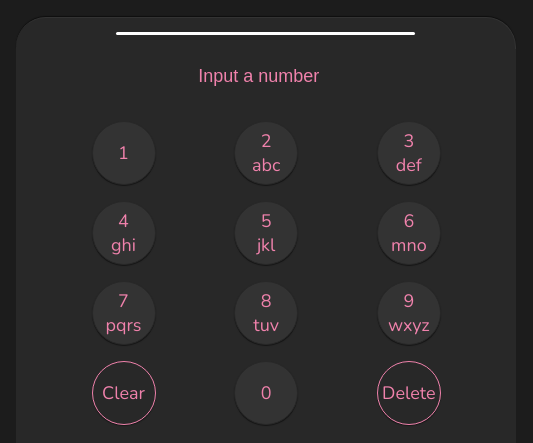
it: Deletes query value
Expected: the text "2" is shown, [261, 129, 272, 153]
Click the button with test id "button-2" at point(266, 153), box [234, 121, 298, 185]
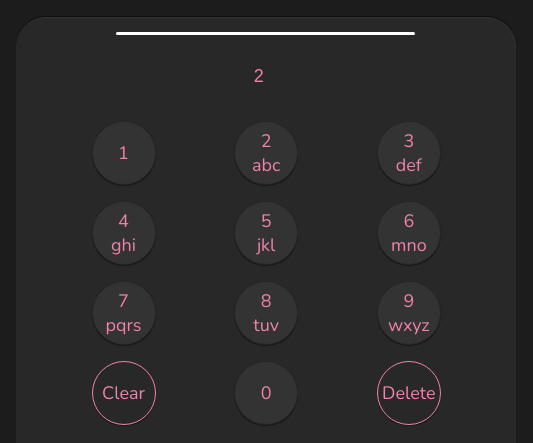
Expected: the text "Clear" is shown, [102, 381, 145, 405]
Expected: the number field with test id "text-input" holds "2", [16, 49, 516, 103]
Click the button with class "special" showing "Clear" at point(124, 393), box [92, 361, 156, 425]
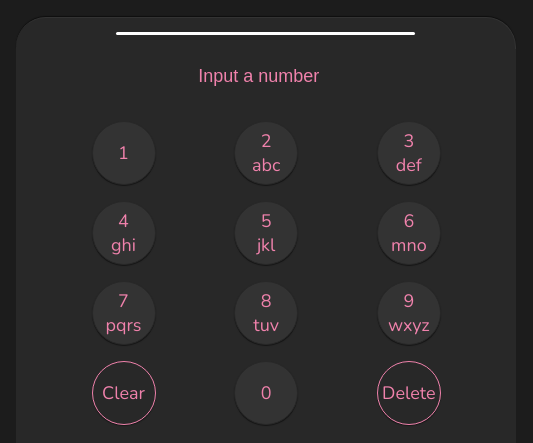
Expected: the number field with test id "text-input" is empty, [16, 49, 516, 103]
